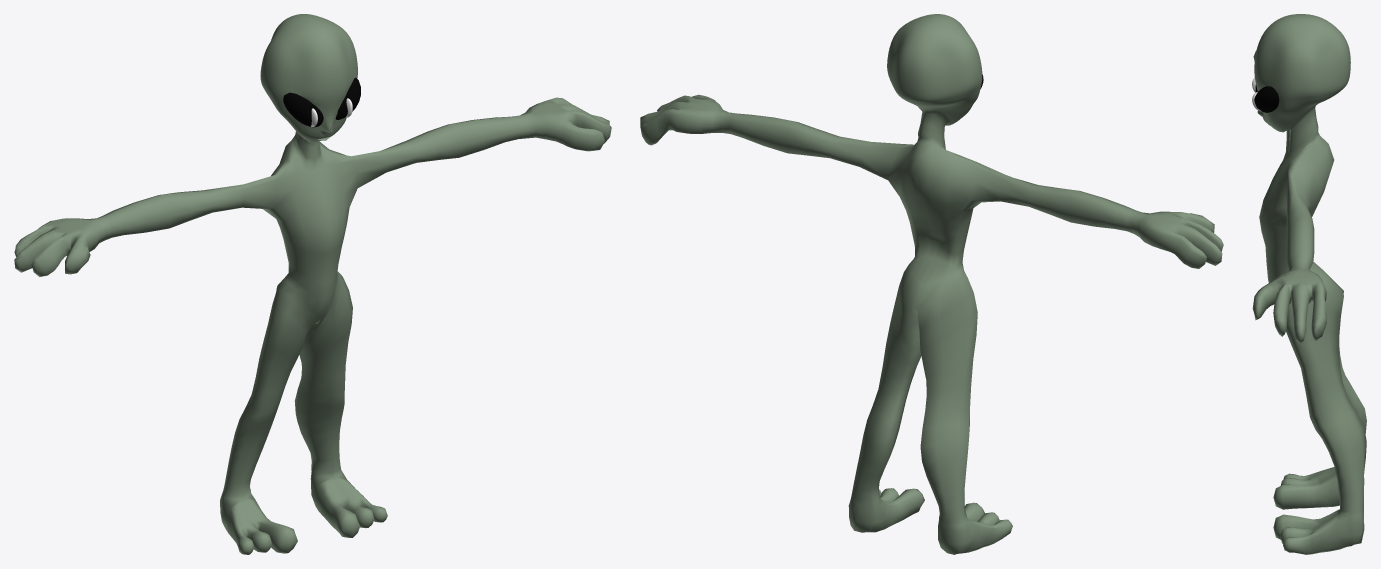
File: FullGreenAlien.fbx
3 views of the same model, side by side, from view 1: azimuth 30°, elevation 25°; view 2: azimuth 150°, elevation 25°; view 3: azimuth 270°, elevation 25° (orthographic). The views are drawn at different scales.
Visible parts, largest first — view 1: full_body; view 2: full_body; view 3: full_body.
Boxes of the visible parts, <box> form: full_body: <box>14,14,611,554</box>; full_body: <box>640,14,1223,554</box>; full_body: <box>1252,14,1366,554</box>.
Bounding box in the file's own units: 255 × 213 × 43.57.
